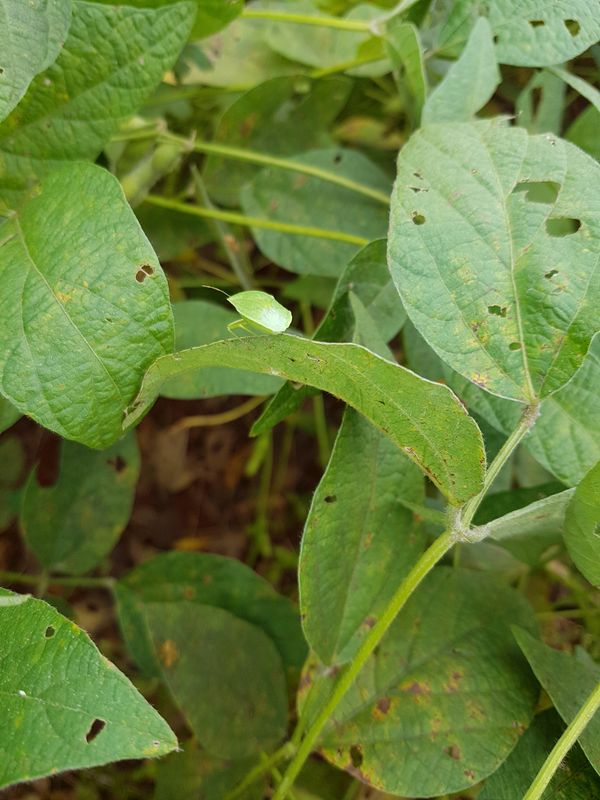Nezara_viridula_adulto: (199, 276, 301, 350)
